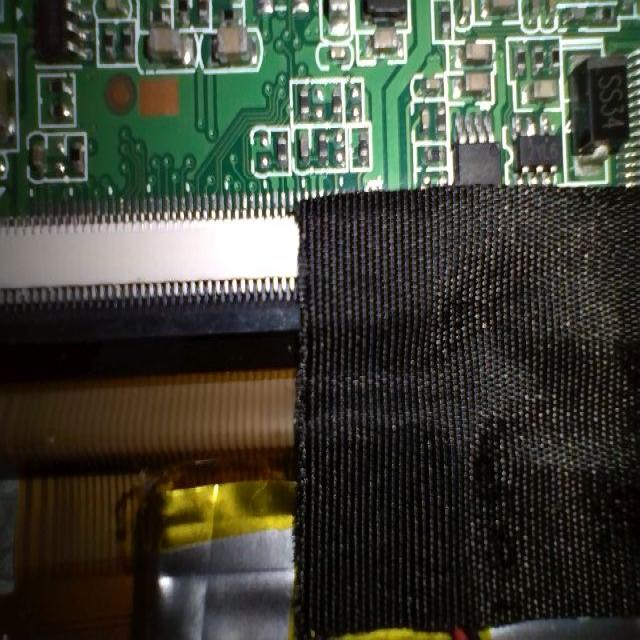capacitor: (144, 29, 194, 65), (211, 24, 250, 64), (463, 71, 496, 100), (372, 28, 402, 54), (528, 76, 555, 100), (33, 137, 46, 180), (418, 75, 440, 94)
resistor: (297, 87, 311, 121), (71, 142, 88, 170), (422, 148, 448, 164), (333, 90, 344, 124)
